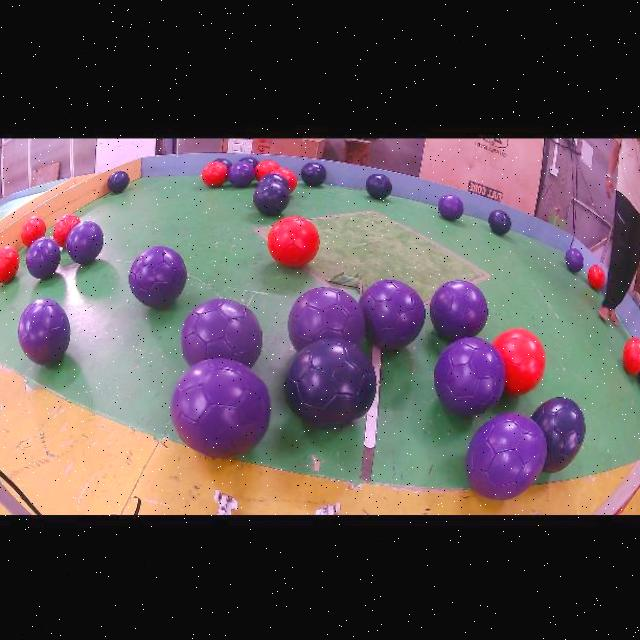B: (284, 336, 377, 428), (531, 396, 586, 471), (253, 179, 289, 215), (365, 173, 393, 199), (301, 161, 326, 186), (488, 208, 512, 234), (108, 169, 129, 192), (114, 178, 117, 181)
P: (170, 357, 270, 458), (465, 412, 547, 498), (181, 297, 262, 366), (435, 336, 505, 415), (288, 285, 365, 351), (359, 279, 425, 348), (429, 279, 488, 340), (129, 245, 187, 307), (18, 297, 71, 364), (66, 220, 104, 263), (27, 236, 61, 278), (227, 160, 255, 186), (438, 194, 463, 220), (565, 247, 584, 272)
R: (492, 327, 546, 394), (267, 216, 319, 266), (53, 213, 80, 245), (20, 215, 46, 246), (0, 245, 19, 283), (202, 161, 228, 186), (623, 336, 640, 373), (255, 158, 279, 179), (587, 264, 606, 288)
